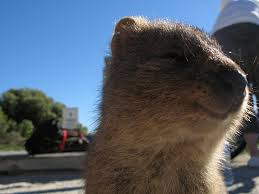quokka: (83, 17, 251, 194)
